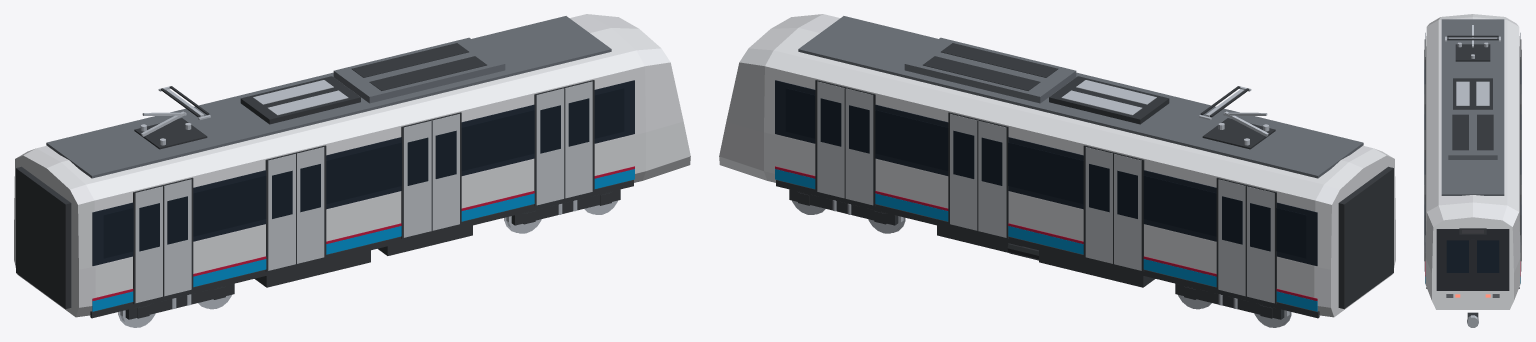
Rendered from rer_b_mi79__tail.glb.
3 views of the same model, side by side, from view 1: azimuth 30°, elevation 25°; view 2: azimuth 150°, elevation 25°; view 3: azimuth 270°, elevation 25° (orthographic). The views are drawn at different scales.
Visible parts, largest first — view 1: rer_b_mi79_tail; view 2: rer_b_mi79_tail; view 3: rer_b_mi79_tail.
Boxes of the visible parts, bbox=[...] form: rer_b_mi79_tail: bbox=[14, 14, 690, 327]; rer_b_mi79_tail: bbox=[719, 14, 1395, 327]; rer_b_mi79_tail: bbox=[1424, 14, 1521, 327].
Bounding box in the file's own units: 15.37 × 4.56 × 2.95.
